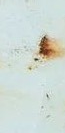Corrosion: (39, 34, 65, 59)
